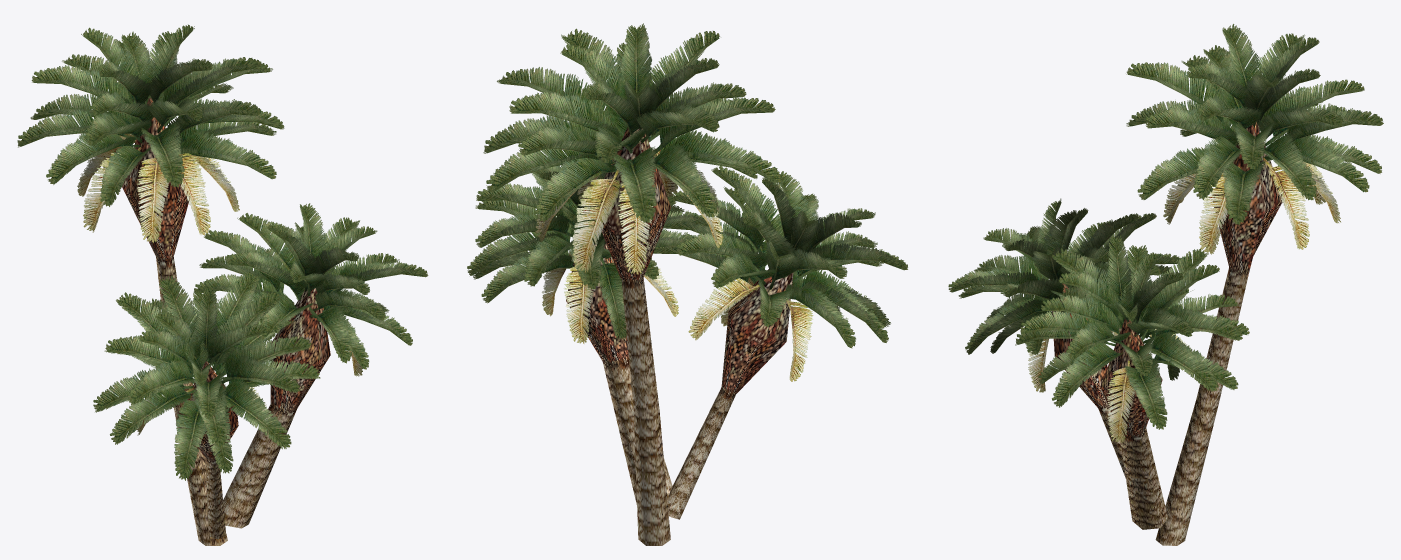
File: flora_tree_cretan_date_palm_patch_v2.glb
3 renders of one model, left to right at view 1: azimuth 30°, elevation 25°; view 2: azimuth 150°, elevation 25°; view 3: azimuth 270°, elevation 25°, orthographic. The views are drawn at different scales.
Parts seen in each view (by area): view 1: flora_tree_cretan_date_palm_patch_v2_part0; view 2: flora_tree_cretan_date_palm_patch_v2_part0; view 3: flora_tree_cretan_date_palm_patch_v2_part0.
Boxes of the visible parts, x1,y1,x2,y2 form: flora_tree_cretan_date_palm_patch_v2_part0: (17, 24, 428, 545); flora_tree_cretan_date_palm_patch_v2_part0: (467, 23, 907, 545); flora_tree_cretan_date_palm_patch_v2_part0: (948, 24, 1383, 545).
Size of the model in its own units: 12.91 by 17.73 by 14.7.
Materials: 1 (1 with a texture image).
